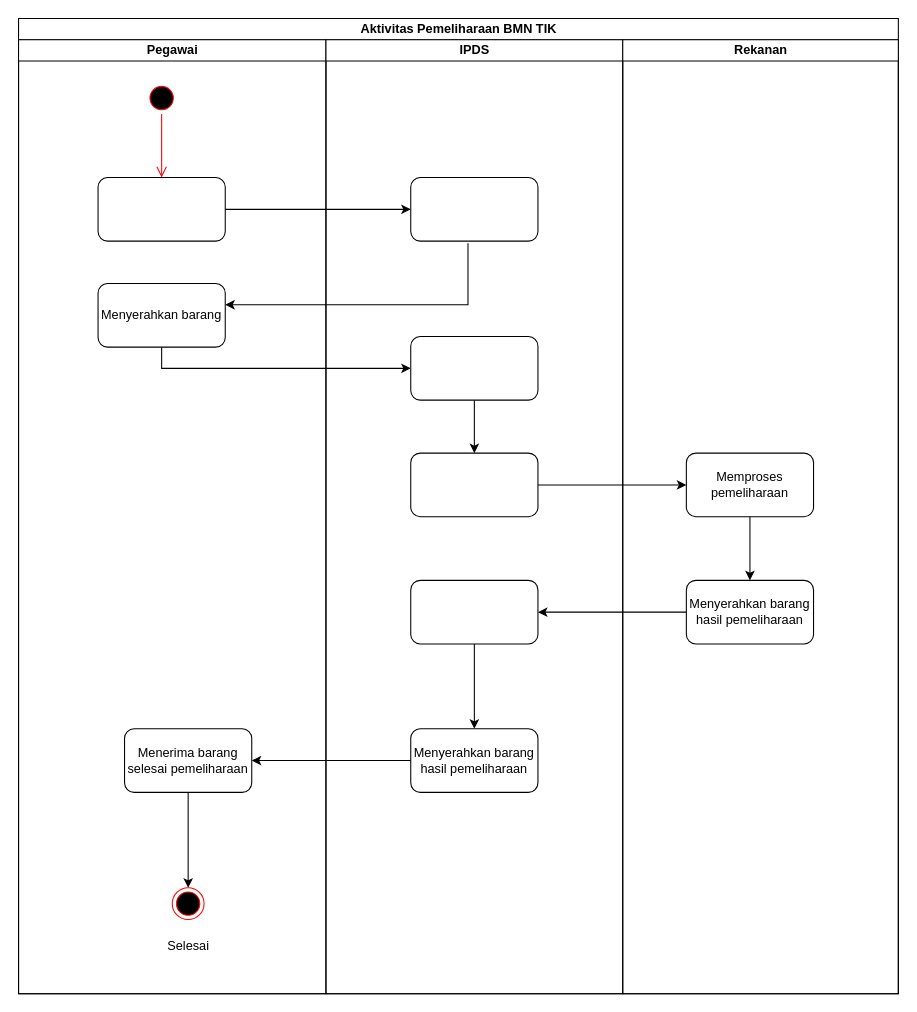
The diagram is 917 pixels wide and 1012 high, and some of its shapes have lost their labels. The shapes that lost their labels are listed below. From the top down, each one's centre as x and y in pixels, then its label:
[161,208]: Mengajukan pemeliharaan BMN TIK
[474,208]: Memeriksa dan menyetujui pengajuan
[474,367]: Memproses pengajuan secara batch
[474,484]: Menyerahkan barang kepada rekanan
[474,611]: Menerima dan memeriksa hasil pemeliharaan
